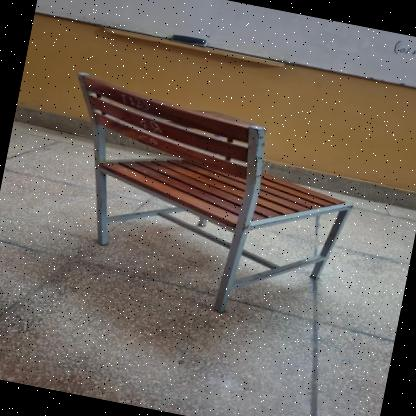chair: (32, 65, 378, 339)
